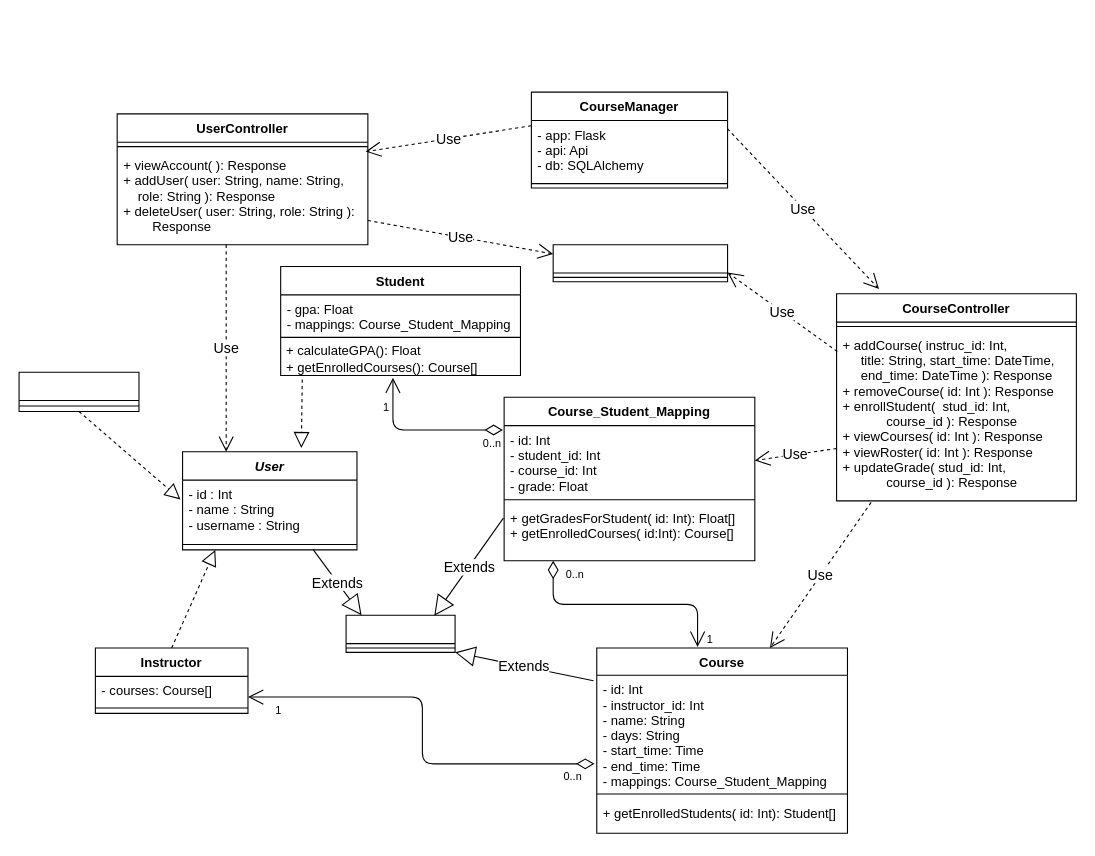
Some shapes in this 1095 by 856 pixel diagram are drawn without their labels. Each missing label, with the centre of its shape:
Coordinator: the point at 78,391
LoggingUtil: the point at 640,263
Model: the point at 400,633
